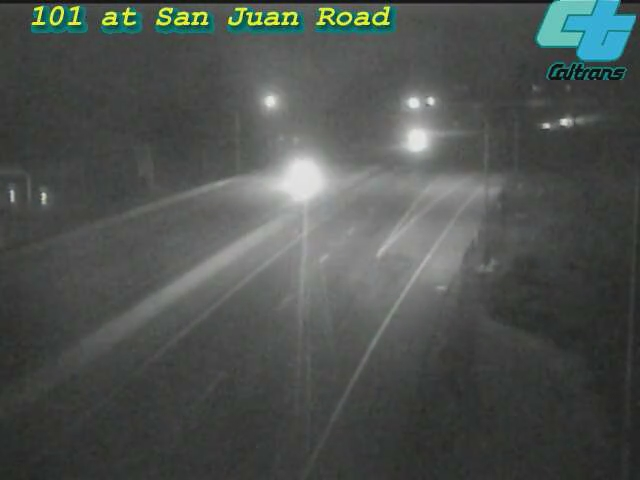vehicle: (262, 136, 342, 216), (386, 117, 436, 167), (552, 95, 602, 145), (523, 100, 573, 150)
